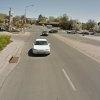Car: (24, 32, 57, 57)
